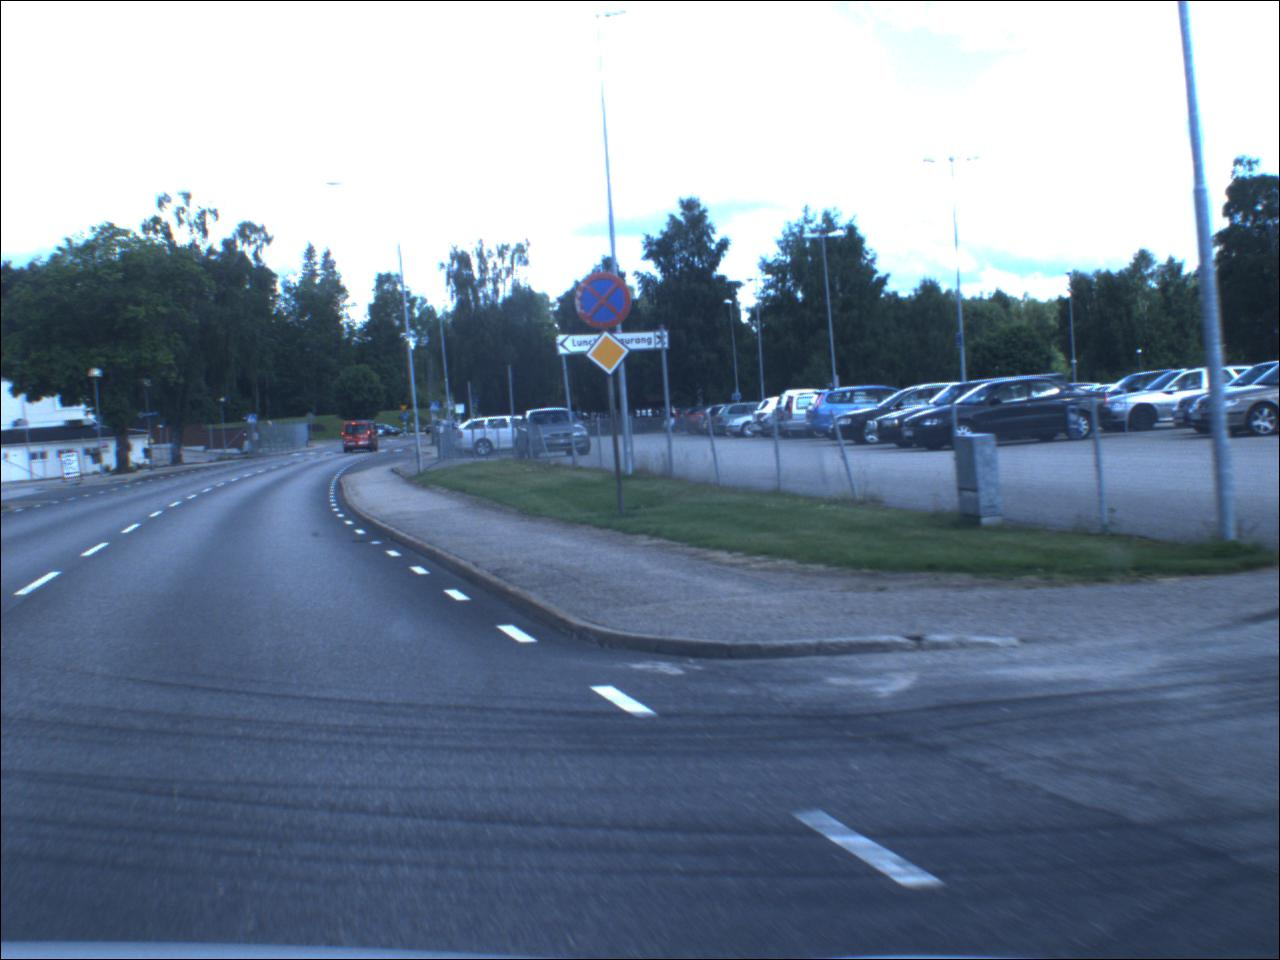GIVE_WAY: (400, 405, 411, 414)
NO_STOPPING_NO_STANDING: (574, 269, 636, 335)
PASS_RIGHT_SIDE: (403, 414, 411, 423)
PEDESTRIAN_CROSSING: (248, 415, 260, 426), (432, 404, 442, 414)
PRIORITY_ROAD: (588, 333, 633, 378)
